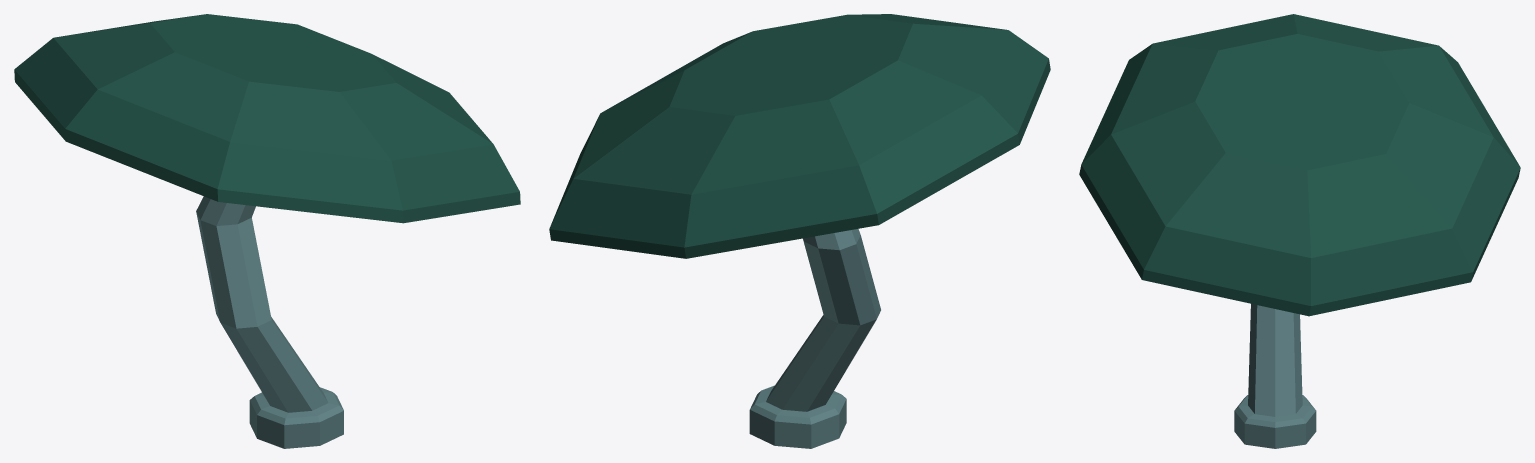
The model's file is shroom2.fbx.
3 renders of one model, left to right at view 1: azimuth 30°, elevation 25°; view 2: azimuth 150°, elevation 25°; view 3: azimuth 270°, elevation 25°, orthographic. The views are drawn at different scales.
Visible parts, largest first — view 1: Cube.002; view 2: Cube.002; view 3: Cube.002.
Boxes of the visible parts, left/top/right/bottom form: Cube.002: left=14, top=14, right=520, bottom=448; Cube.002: left=549, top=14, right=1050, bottom=448; Cube.002: left=1079, top=14, right=1520, bottom=448.
Bounding box in the file's own units: 2354 × 2134 × 2437.
